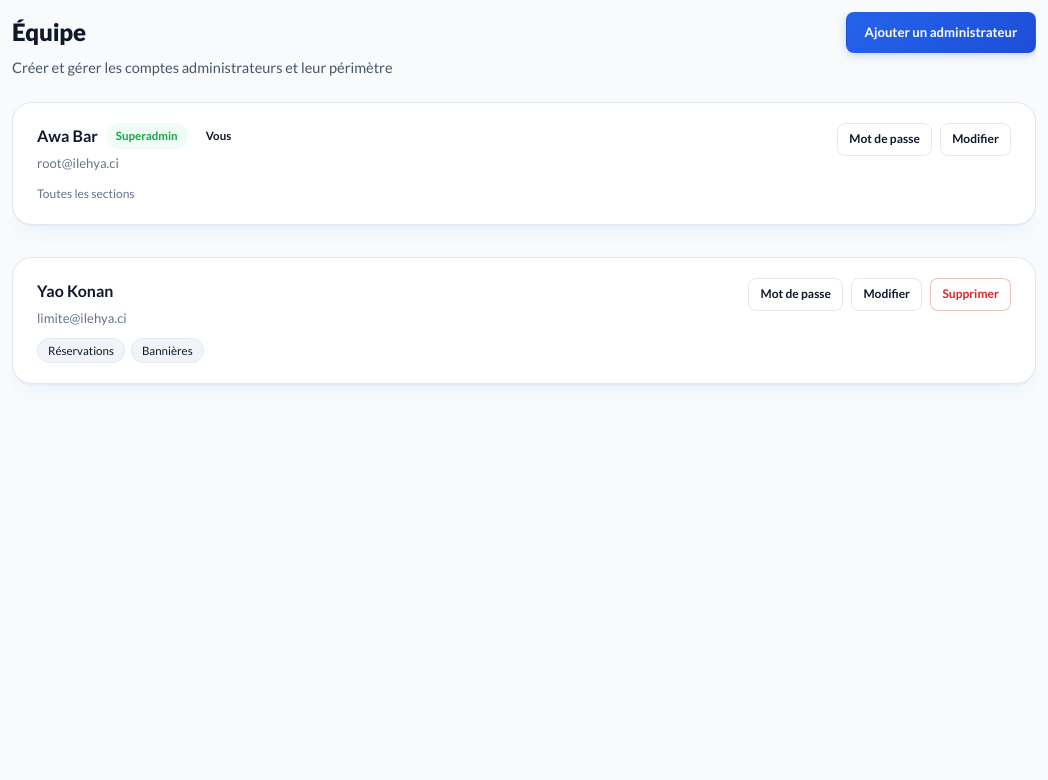
Test: AdminEquipePage — modification du périmètre › ouvre l'édition pré-cochée puis enregistre le périmètre
expect the text "Yao Konan" is shown: met, box [37,278,113,304]
Step 1. Click the button "Modifier" in the row of "Konan" → (887, 294), box [851,278,922,311]
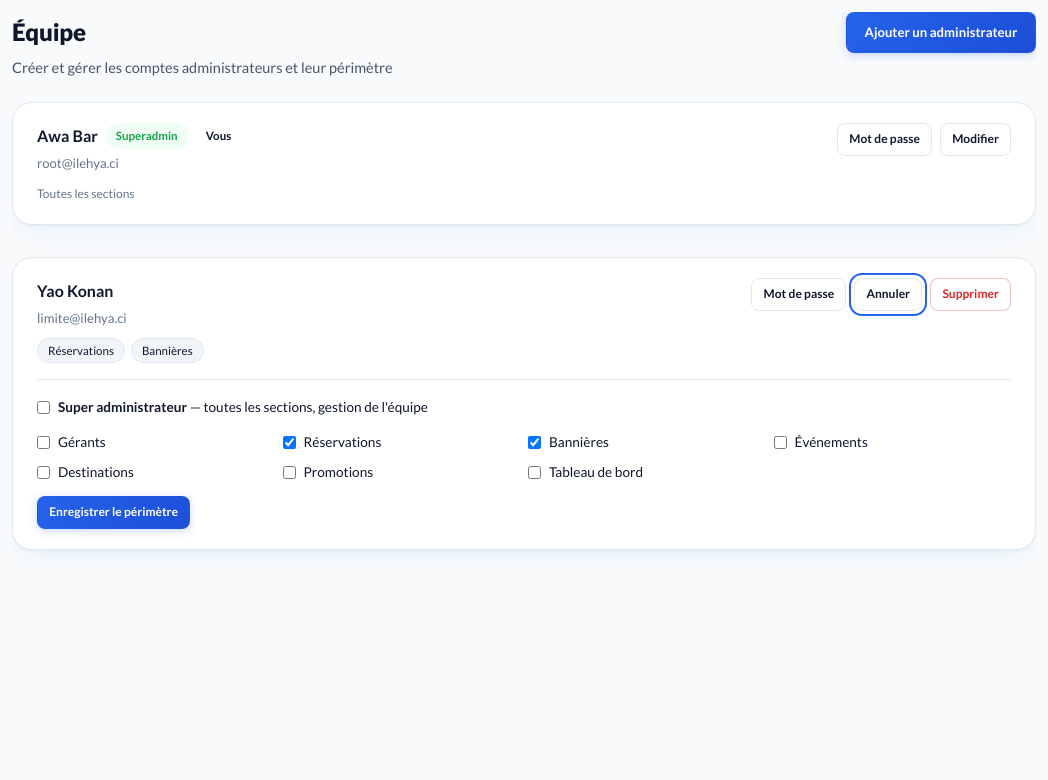
expect the checkbox labelled "Réservations" is checked: met, box [282,436,296,449]
expect the checkbox labelled "Bannières" is checked: met, box [528,436,541,449]
expect the checkbox labelled "Gérants" is not checked: met
Step 2. Click the checkbox labelled "Gérants" → (44, 442), box [37,436,50,449]
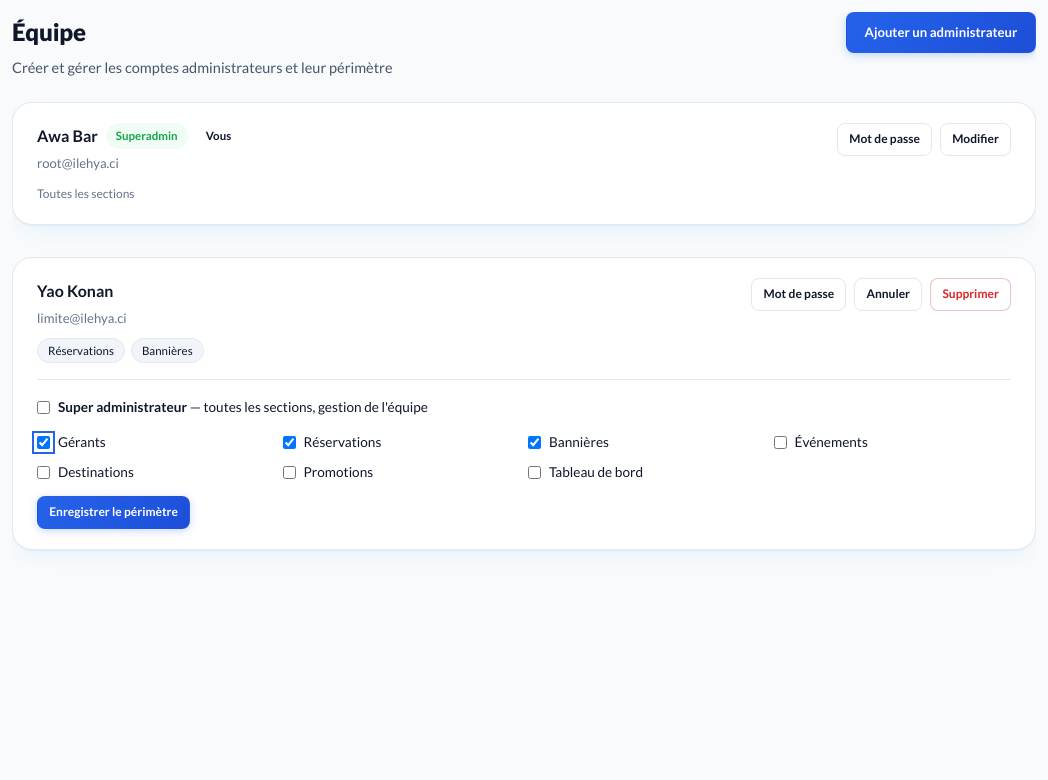
Step 3. Click the button "Enregistrer le périmètre" → (114, 512), box [37,496,190,529]
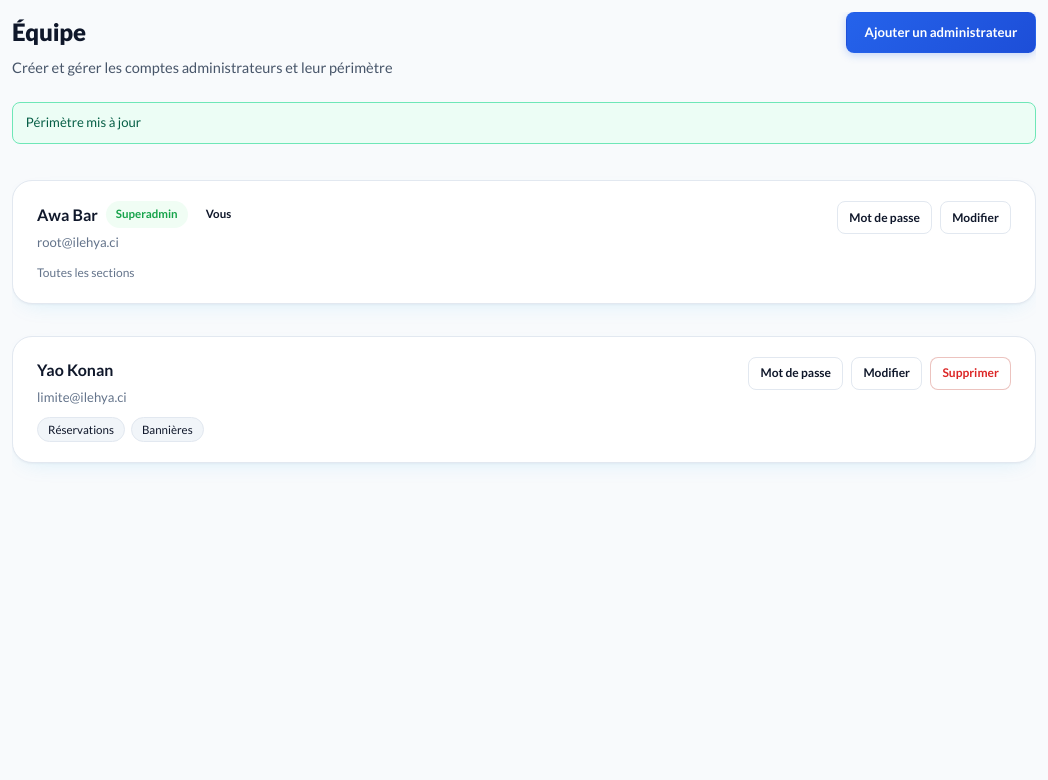
expect the text "Périmètre mis à jour" is shown: met, box [12,102,1036,144]
